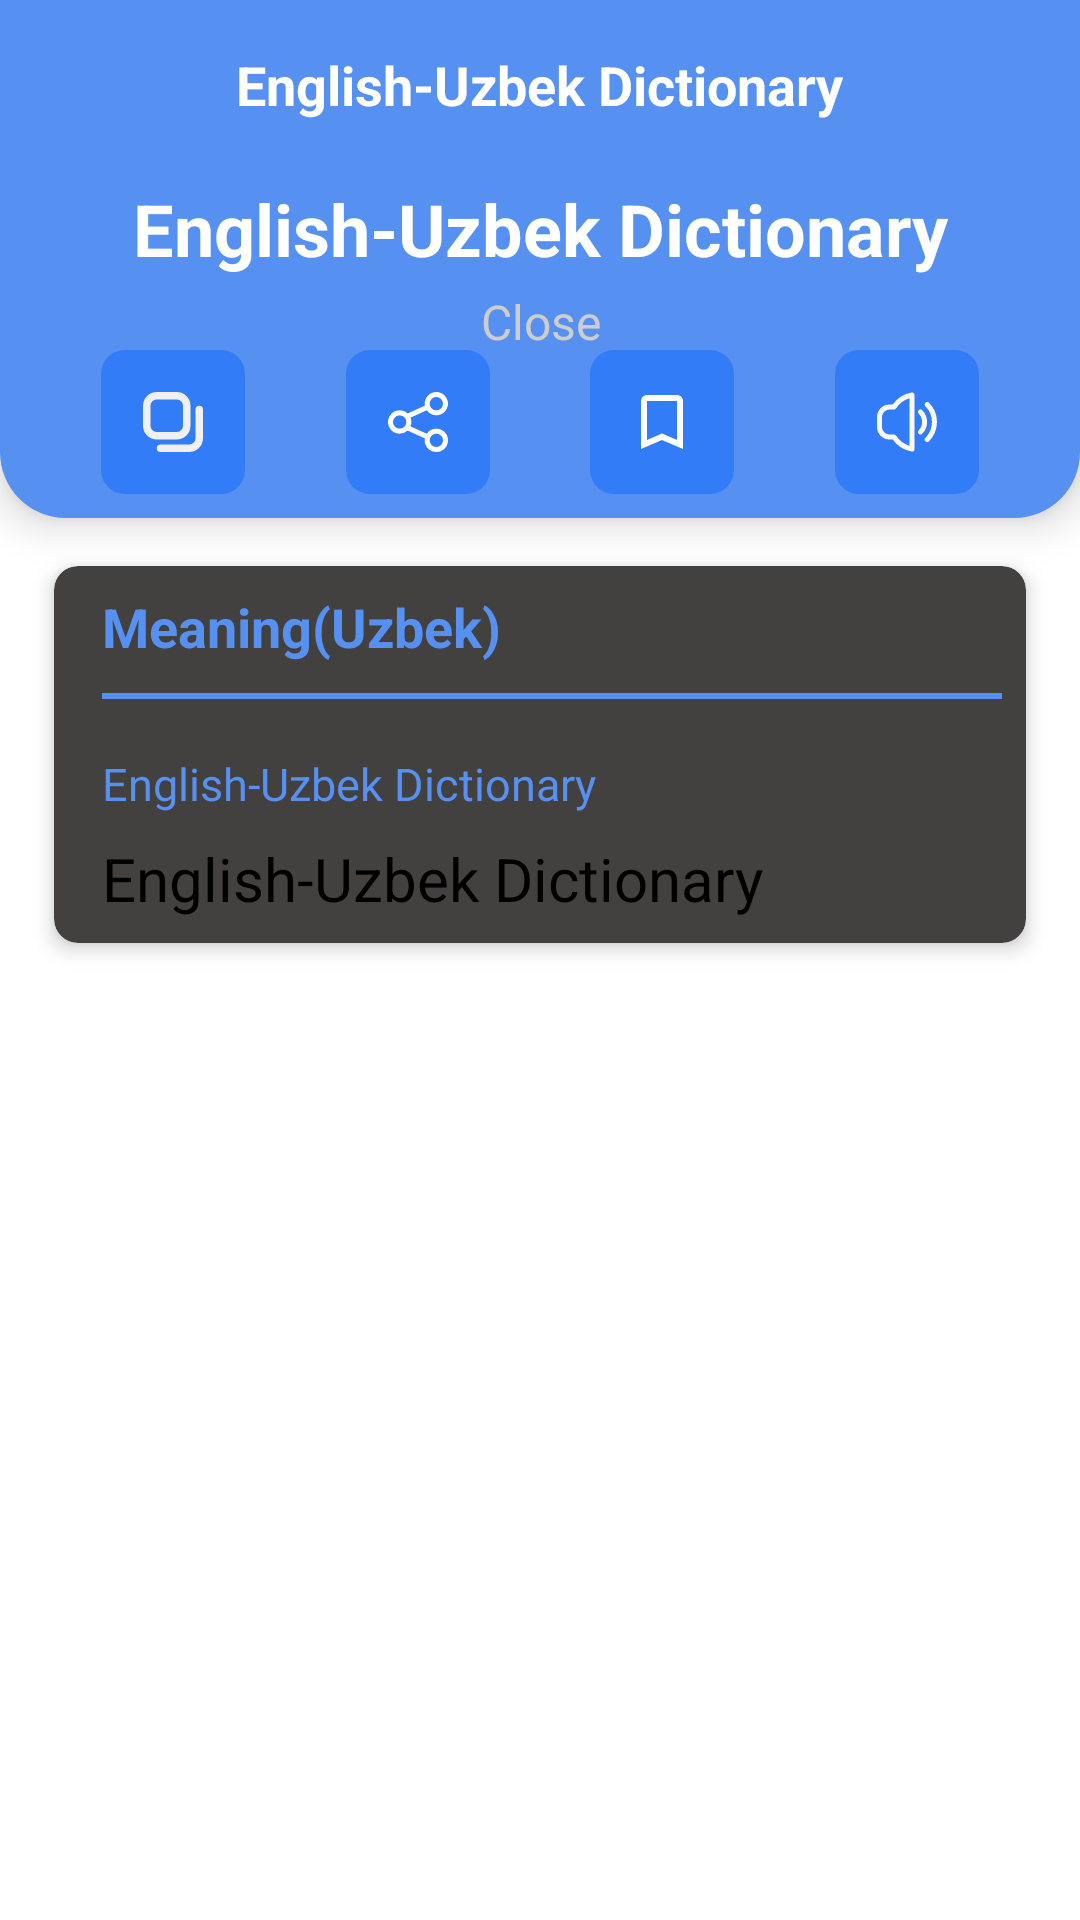

Screen size 1080w x 1920h. Icon name, then its box in pixels as (x1,y1,x2,y2):
bookmark: (590,350,734,494)
share: (346,350,490,494)
volume: (835,350,979,494)
